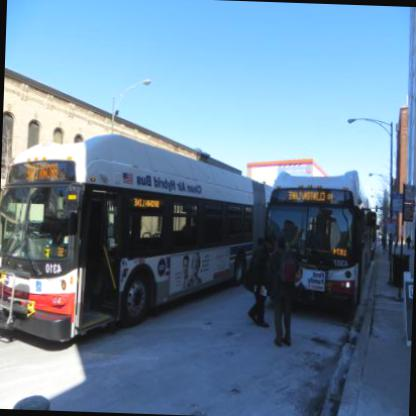bus: (0, 129, 278, 356), (258, 166, 378, 311)
